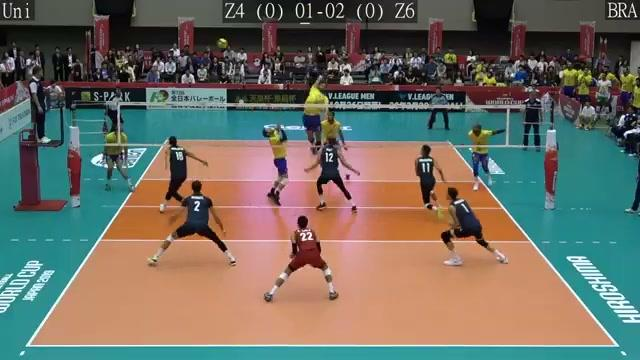ball: (216, 37, 227, 48)
